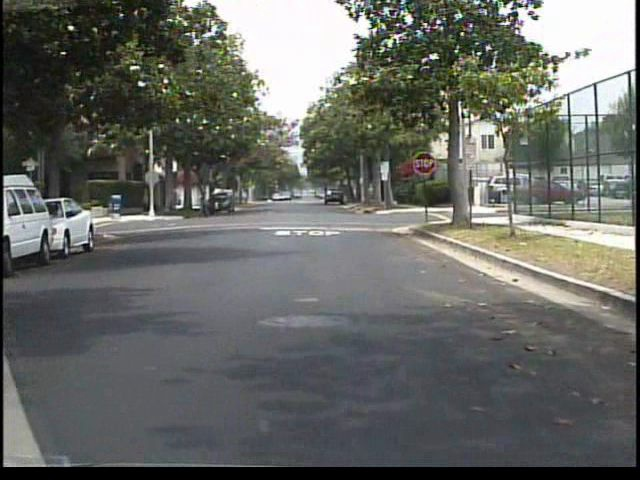person: (197, 178, 221, 220)
